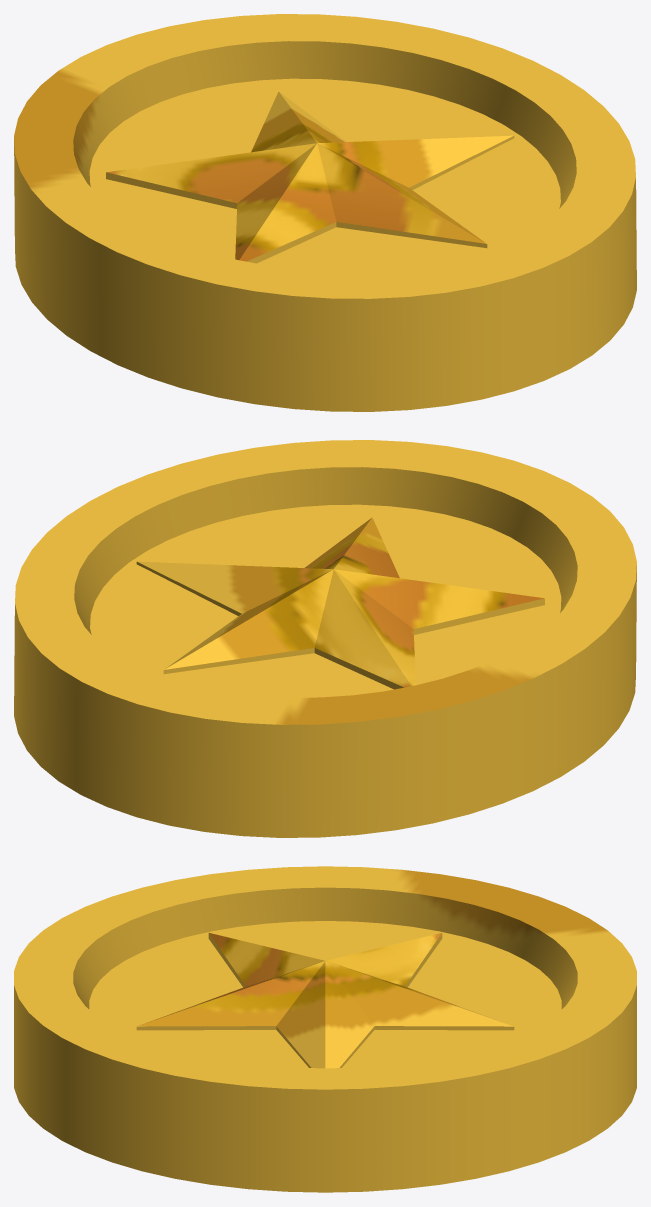
Rendered from GoldCoin2.fbx.
3 renders of one model, top to bottom at view 1: azimuth 30°, elevation 25°; view 2: azimuth 150°, elevation 25°; view 3: azimuth 270°, elevation 25°, orthographic. The views are drawn at different scales.
Visible parts, largest first — view 1: pCube2; view 2: pCube2; view 3: pCube2.
Boxes of the visible parts, <box> form: pCube2: <box>14,14,636,411</box>; pCube2: <box>14,440,636,837</box>; pCube2: <box>14,866,636,1192</box>.
Size of the model in its own units: 1.08 by 0.3016 by 1.24.
